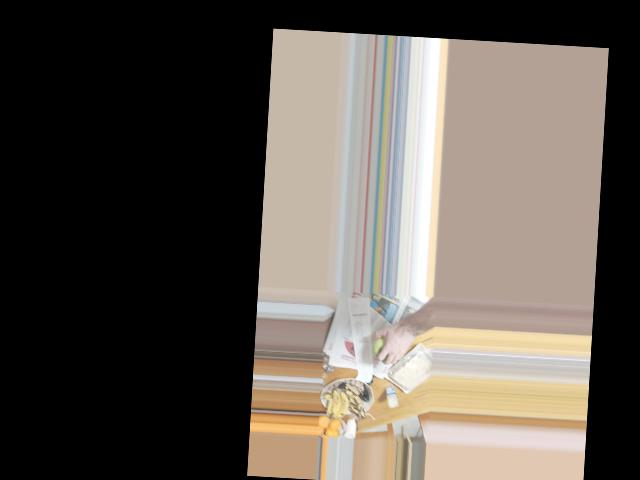apple: (372, 332, 399, 361)
